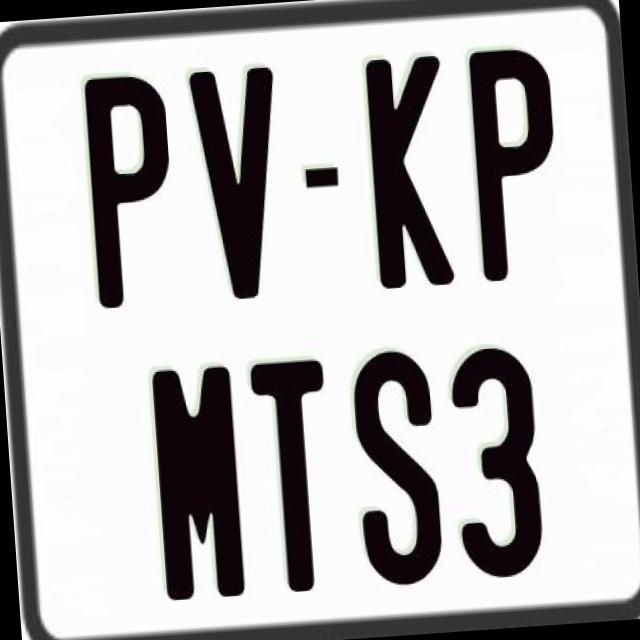3: (445, 346, 547, 584)
K: (364, 55, 460, 292)
M: (146, 364, 245, 598)
P: (464, 46, 566, 284), (84, 69, 184, 306)
S: (348, 346, 444, 585)
T: (249, 356, 343, 592)
V: (185, 65, 293, 308)
